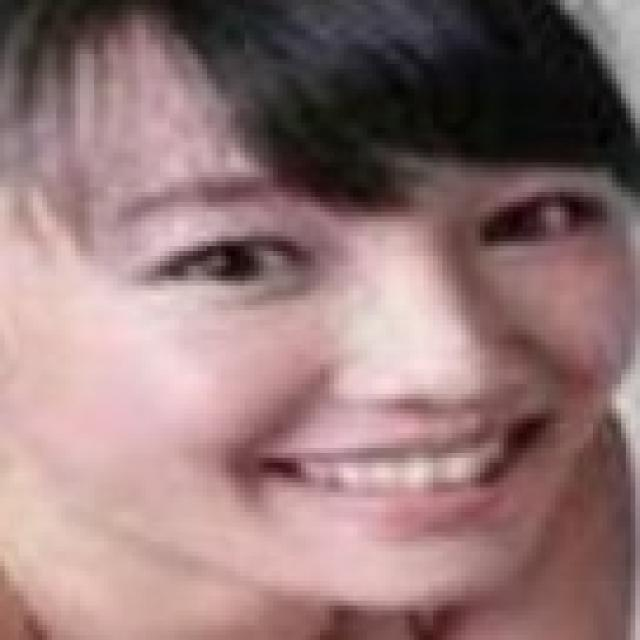no_mask: (45, 38, 613, 599)
